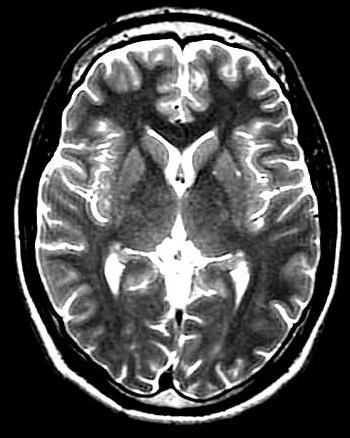Normal_Brain: (1, 1, 350, 438)
